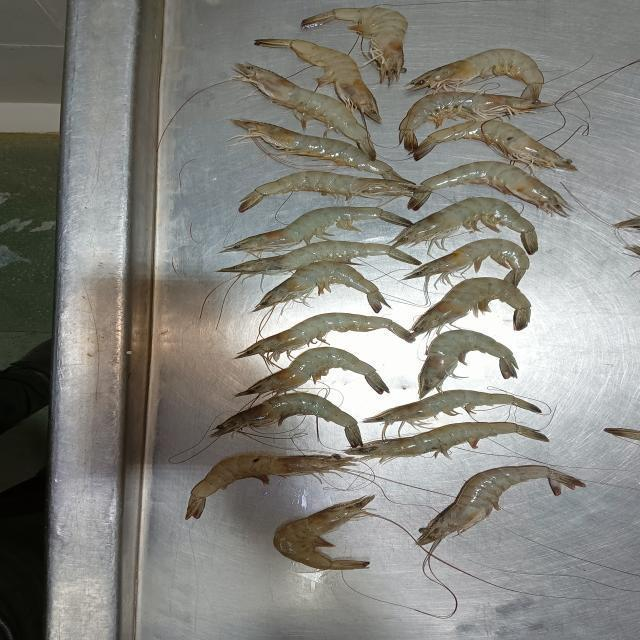shrimp: (232, 64, 376, 160), (418, 466, 583, 545), (185, 454, 358, 518), (255, 38, 380, 123), (398, 91, 551, 151), (408, 161, 568, 215), (232, 119, 384, 175), (412, 119, 576, 170), (236, 313, 412, 359), (210, 392, 361, 445), (301, 8, 407, 83), (393, 197, 537, 252), (344, 422, 547, 459), (237, 347, 387, 397), (237, 207, 411, 250), (274, 496, 374, 569), (406, 49, 543, 101), (239, 171, 415, 211), (419, 330, 518, 397), (411, 277, 530, 332), (257, 261, 384, 311), (223, 241, 419, 272), (367, 390, 539, 424), (403, 238, 527, 284), (606, 428, 639, 441)
